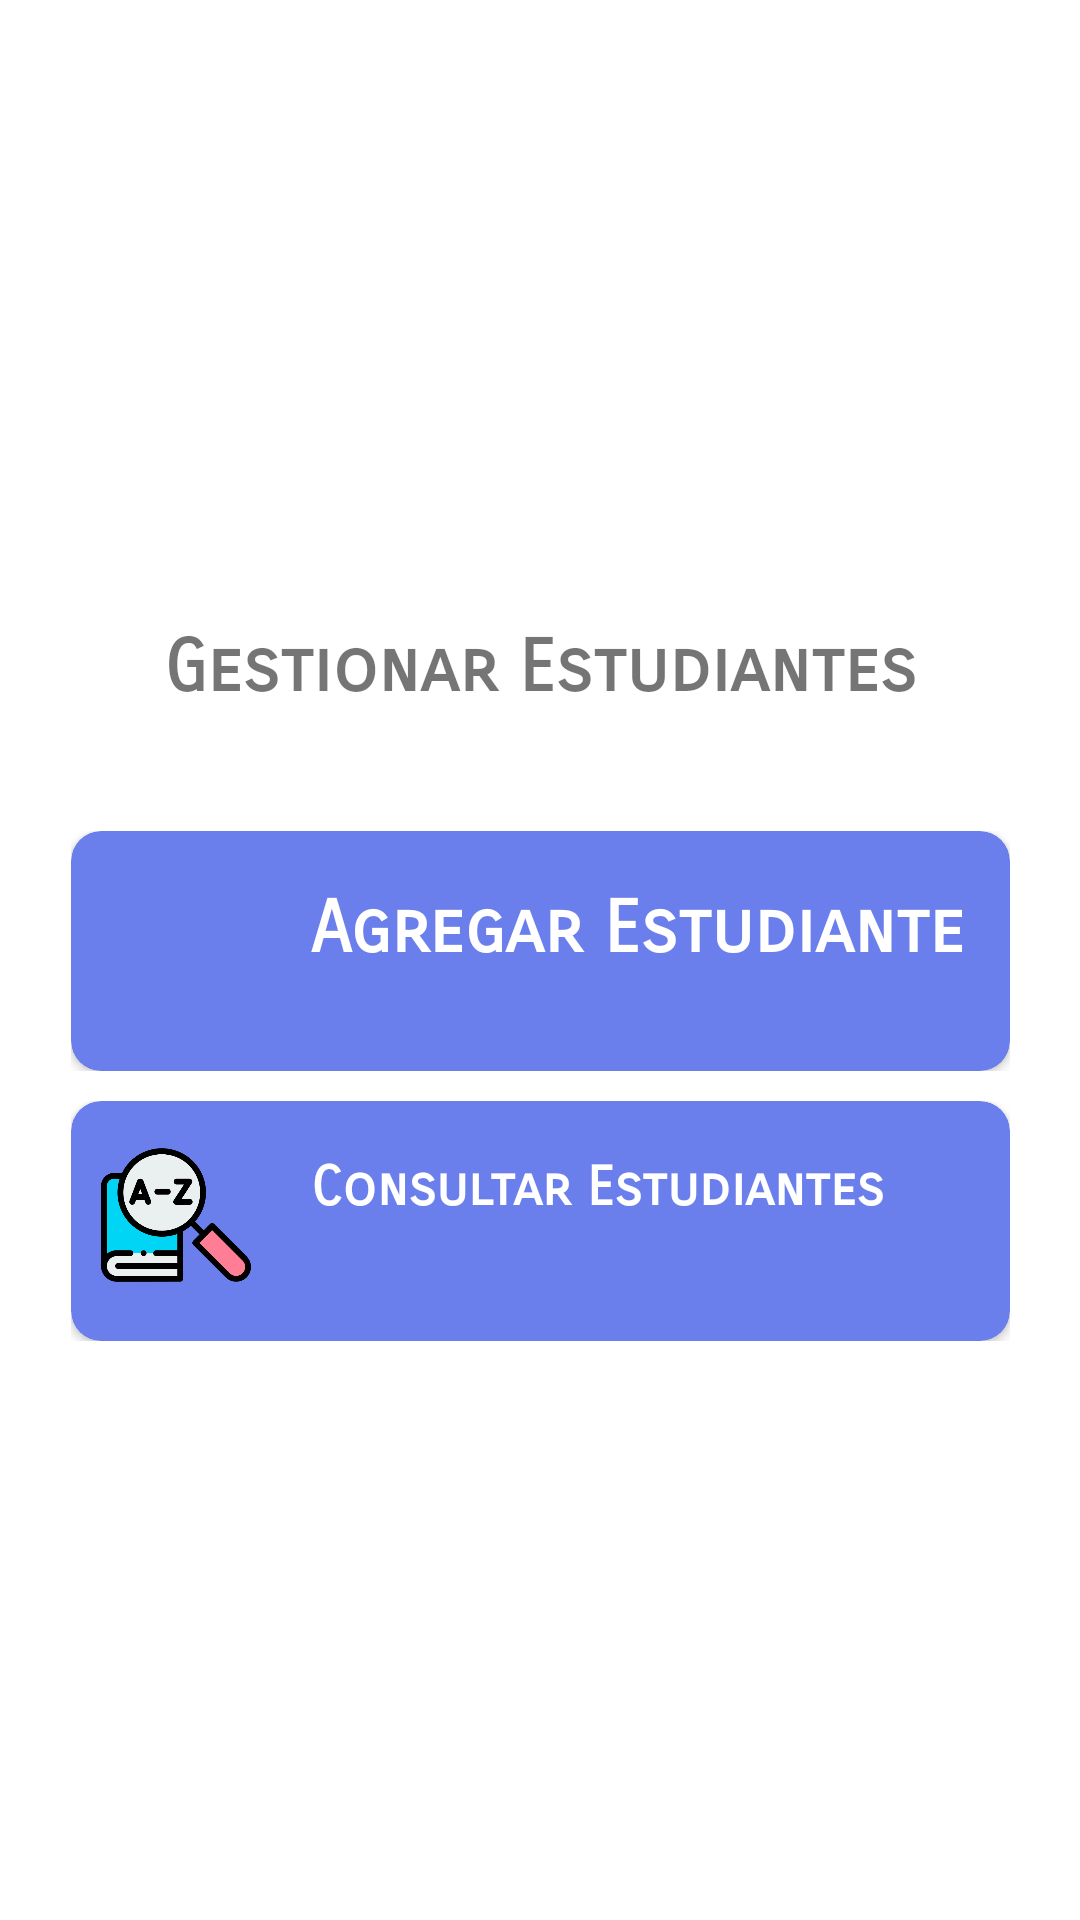

Where icons sit on this 1080px x 1920px app screen, as (x1, y1, x2, y2):
buscar: (101, 1148, 251, 1282)
